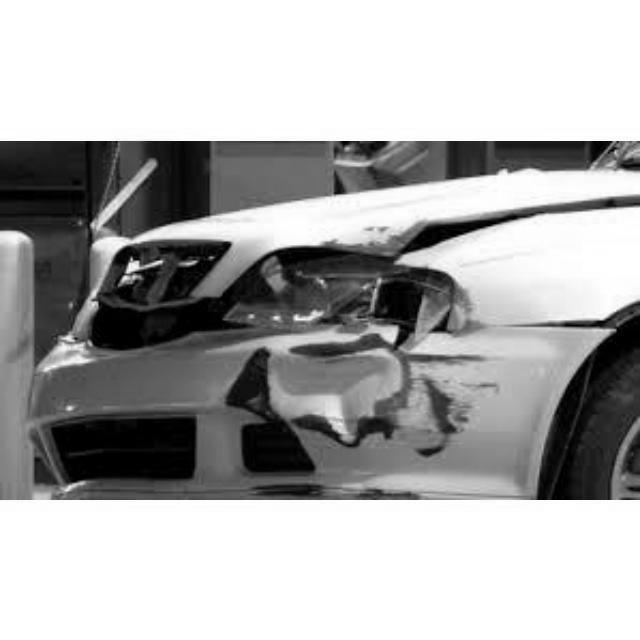Headlight-damage: (193, 233, 475, 352)
bonnet-dent: (247, 179, 598, 249)
front-bumper-dent: (200, 311, 563, 497)
